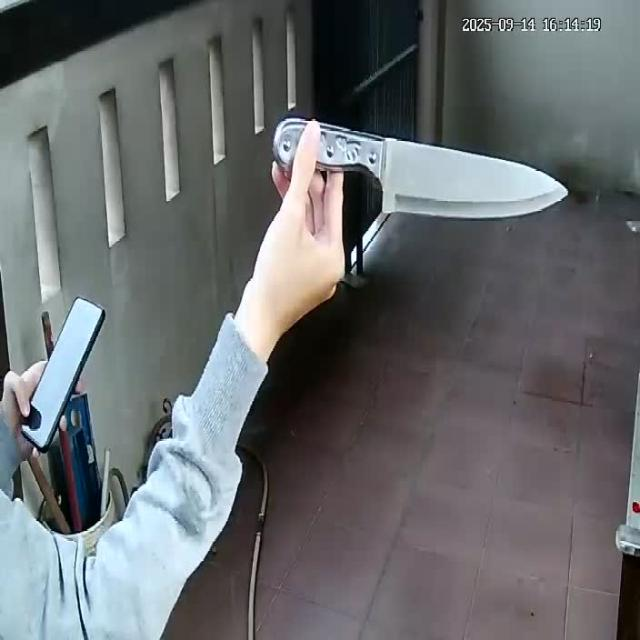senjata_tajam: (344, 125, 572, 220)
